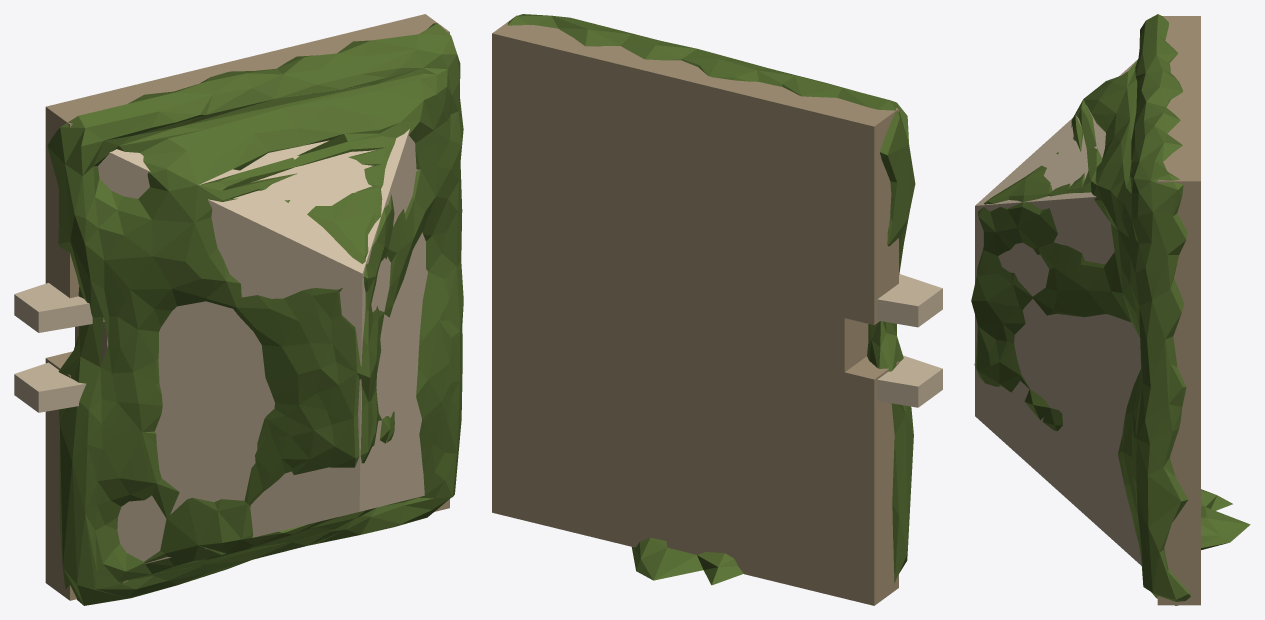
Rendered from LightSandStonebuildingLargeOverGrownAztecPrism2.fbx.
The picture shows the model from 3 angles, left to right: view 1: azimuth 30°, elevation 25°; view 2: azimuth 150°, elevation 25°; view 3: azimuth 270°, elevation 25°; orthographic projection. The views are drawn at different scales.
Parts seen in each view (by area): view 1: LightSandStonebuildingLargeOverGrownAztecPrism2; view 2: LightSandStonebuildingLargeOverGrownAztecPrism2; view 3: LightSandStonebuildingLargeOverGrownAztecPrism2.
Boxes of the visible parts, x1,y1,x2,y2 form: LightSandStonebuildingLargeOverGrownAztecPrism2: (14, 14, 463, 605); LightSandStonebuildingLargeOverGrownAztecPrism2: (492, 14, 942, 605); LightSandStonebuildingLargeOverGrownAztecPrism2: (971, 14, 1250, 605).
Size of the model in its own units: 2013 by 2219 by 1285.
